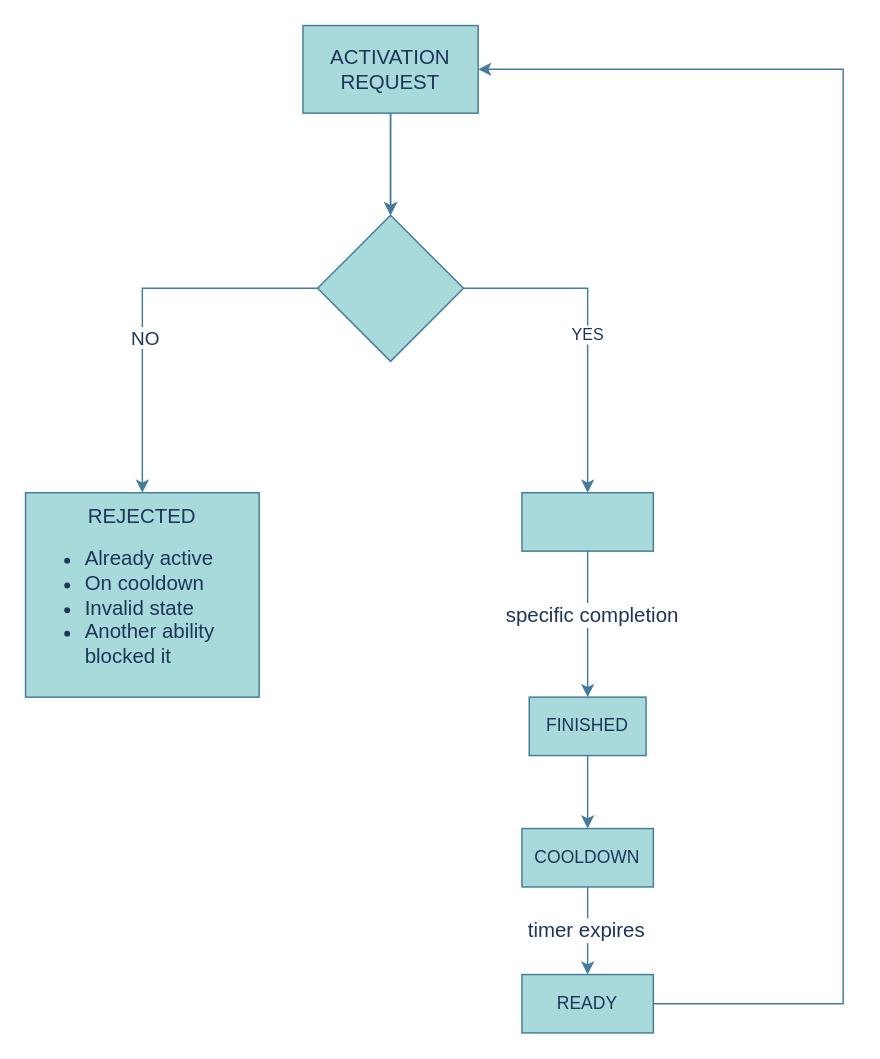
This 880x1059 diagram has some shape labels left out. The shapes that lost their labels are listed below. From the top down, each one's centre as x and y in pixels, then its label:
At (390,287): "Can activate?".
At (586,521): "ACTIVE".
